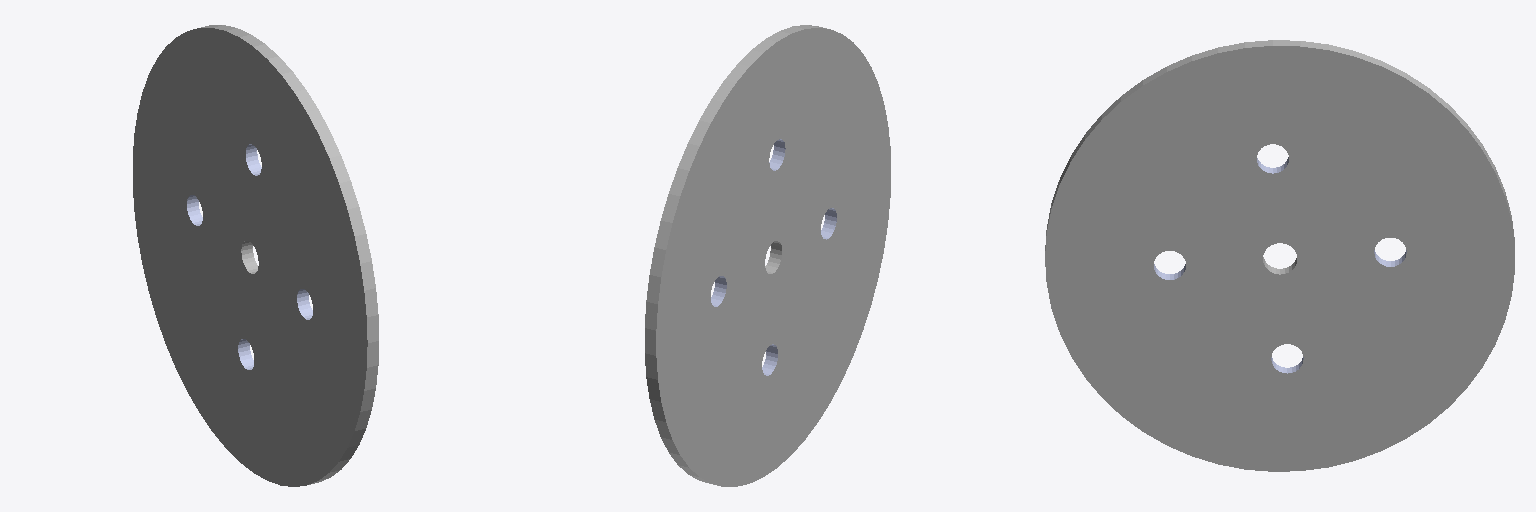
The model's file is sprocket.obj.
3 renders of one model, left to right at view 1: azimuth 30°, elevation 25°; view 2: azimuth 150°, elevation 25°; view 3: azimuth 270°, elevation 25°, orthographic.
Parts seen in each view (by area): view 1: Root|sprocket_(Default)|Default|color, Root|sprocket_(Default)|Default|color-2; view 2: Root|sprocket_(Default)|Default|color, Root|sprocket_(Default)|Default|color-2; view 3: Root|sprocket_(Default)|Default|color, Root|sprocket_(Default)|Default|color-2.
Part boxes in pixels (x1,y1,x2,y2): Root|sprocket_(Default)|Default|color: (133,25,378,486); Root|sprocket_(Default)|Default|color-2: (187,144,312,369); Root|sprocket_(Default)|Default|color: (645,25,890,486); Root|sprocket_(Default)|Default|color-2: (711,139,836,375); Root|sprocket_(Default)|Default|color: (1045,40,1514,471); Root|sprocket_(Default)|Default|color-2: (1154,157,1406,373).
Size of the model in its own units: 0.0055 by 0.1899 by 0.1898.